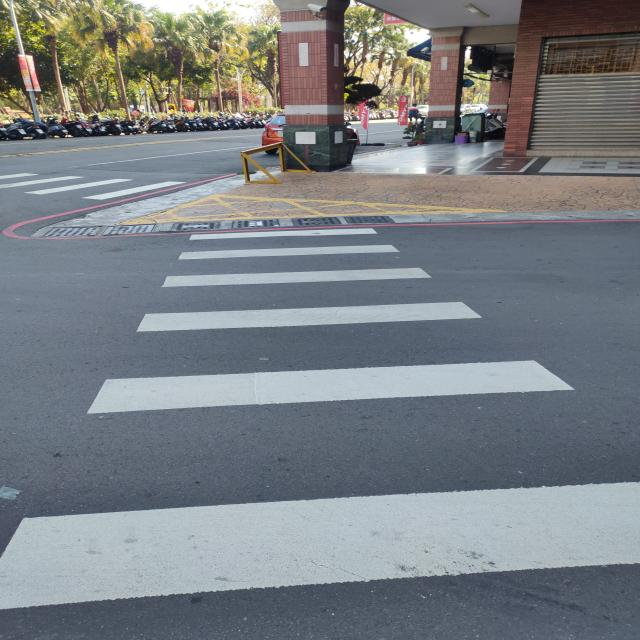zebra crossing: (0, 224, 640, 614), (0, 172, 187, 201)
